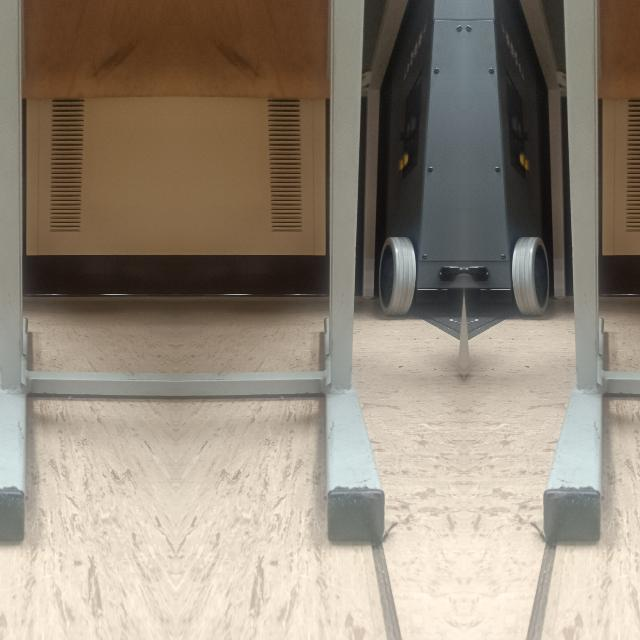obstacle: (318, 195, 388, 542), (539, 195, 609, 542), (0, 195, 32, 542)
